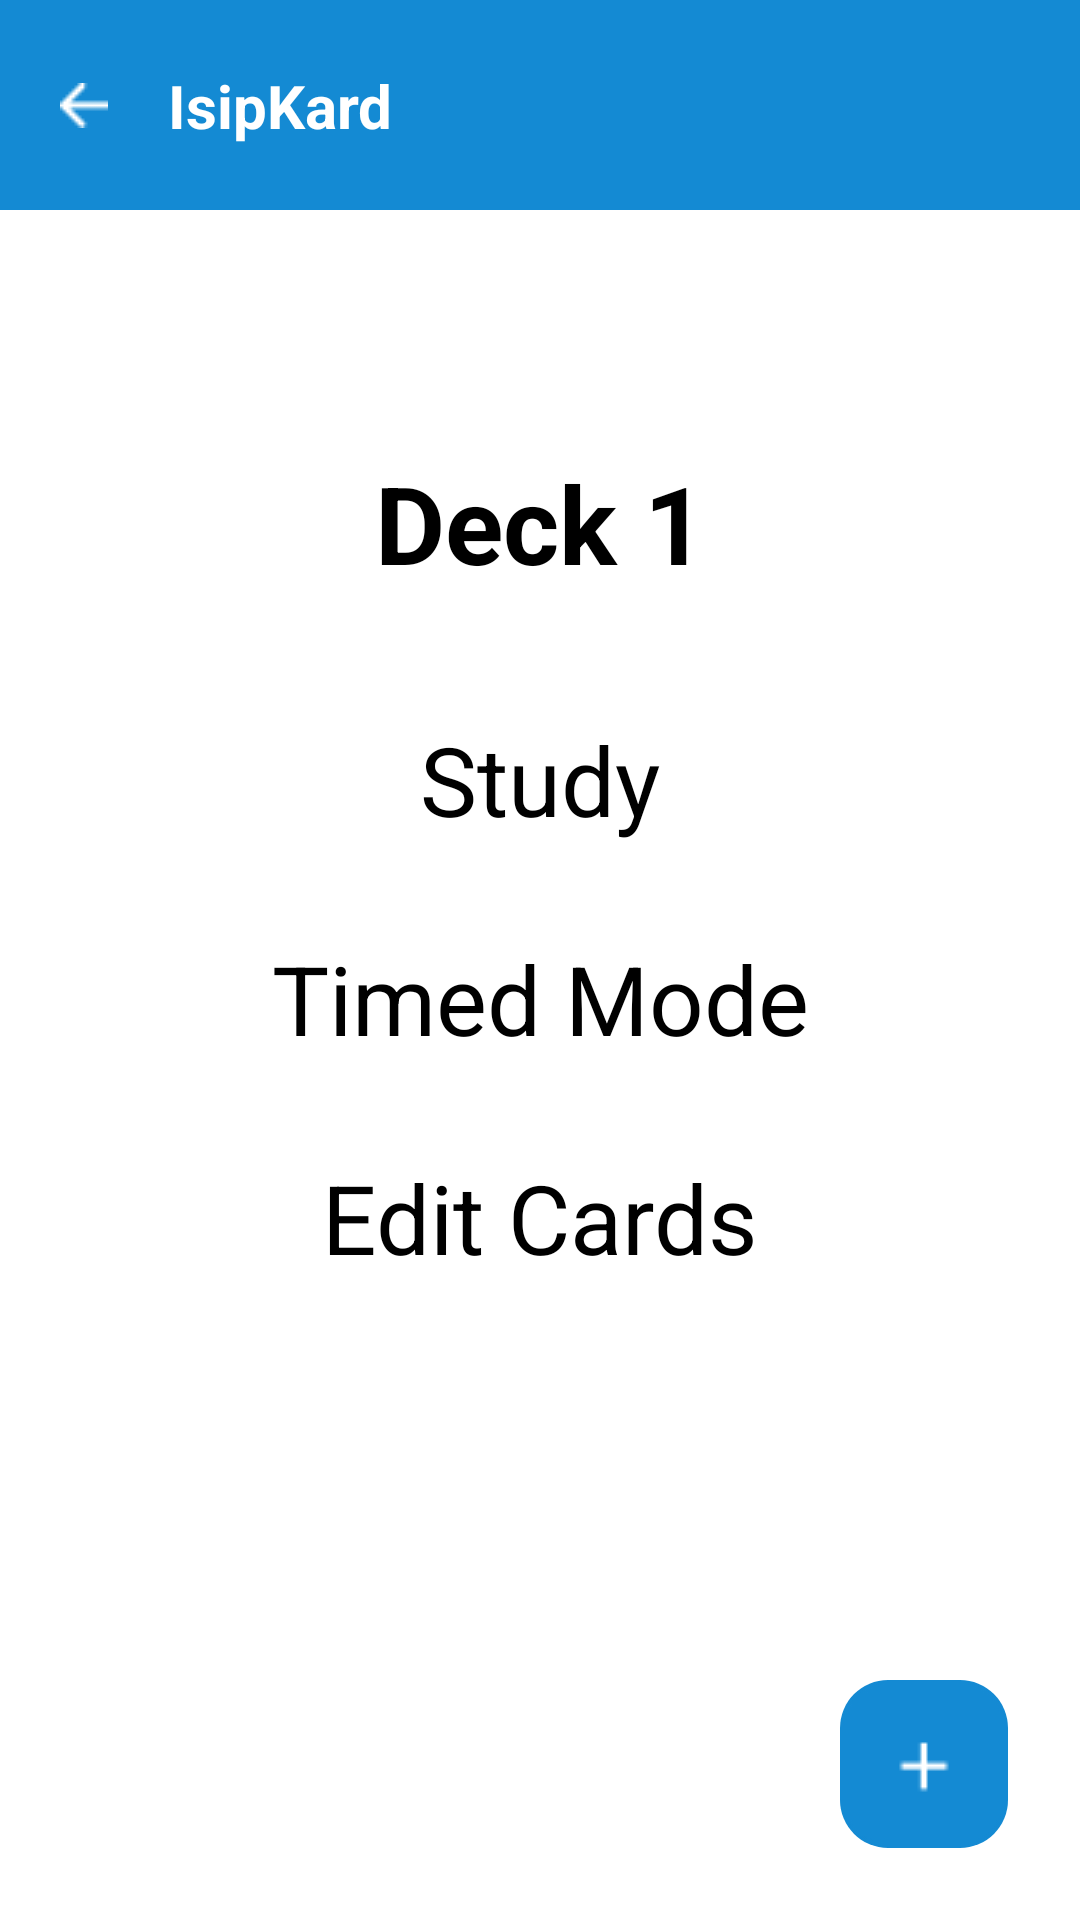

Named icons in this screenshot (1080px×1920px) and their centers, [x,y]:
add: [924,1764]
Back: [84,105]
